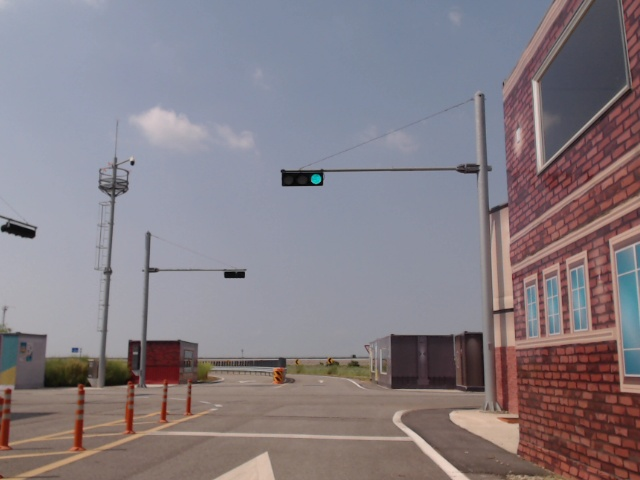green_3: (281, 172, 323, 187)
